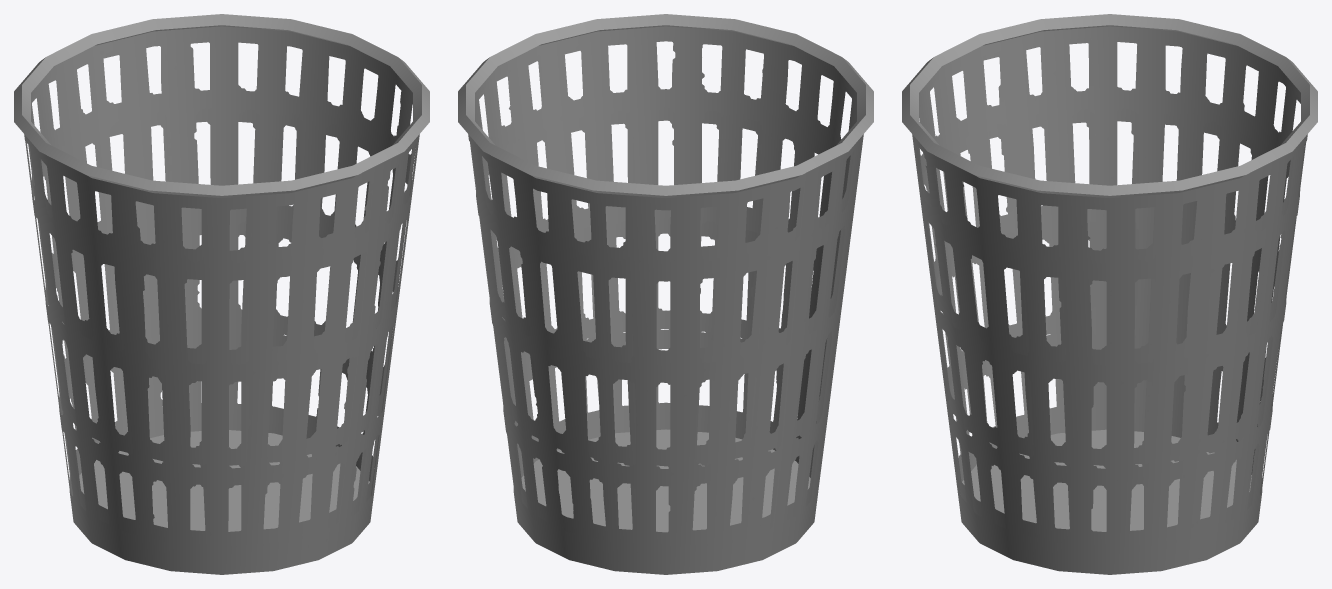
Rendered from BallBucketOTL.FBX.
3 views of the same model, side by side, from view 1: azimuth 30°, elevation 25°; view 2: azimuth 150°, elevation 25°; view 3: azimuth 270°, elevation 25° (orthographic).
Visible parts, largest first — view 1: Bucket; view 2: Bucket; view 3: Bucket.
Part boxes in pixels (x1,y1,x2,y2): Bucket: [14, 14, 429, 574]; Bucket: [458, 14, 873, 574]; Bucket: [902, 14, 1317, 574].
Bounding box in the file's own units: 0.3752 × 0.4035 × 0.3695.
